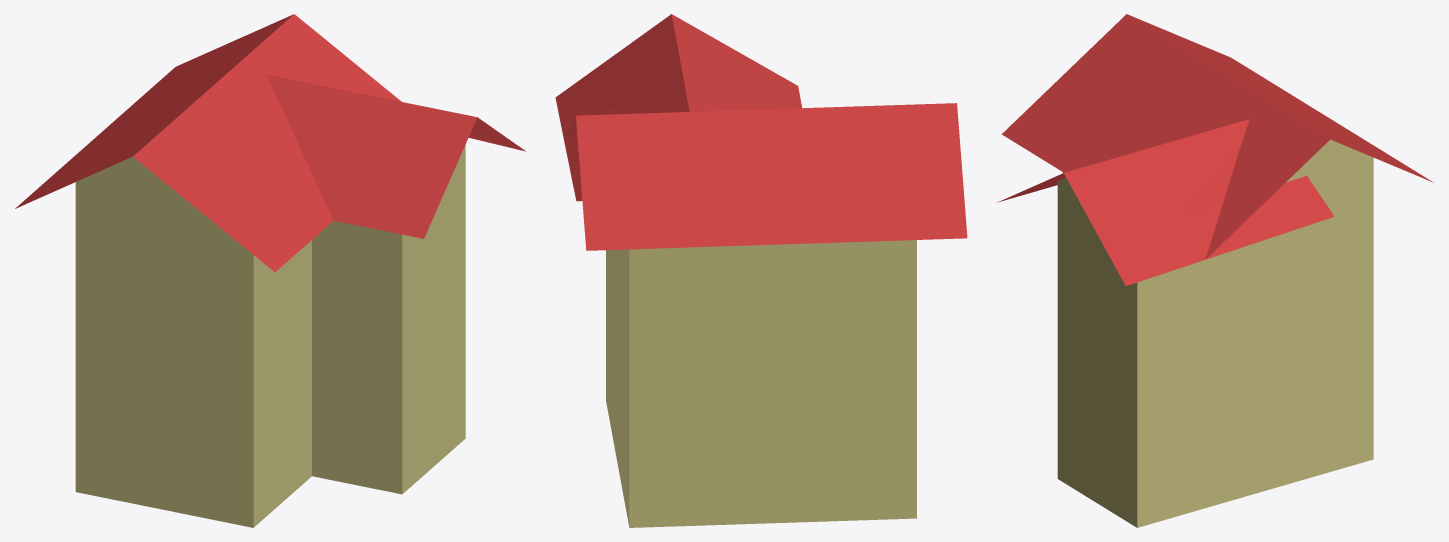
The picture shows the model from 3 angles, left to right: view 1: azimuth 30°, elevation 25°; view 2: azimuth 150°, elevation 25°; view 3: azimuth 270°, elevation 25°; orthographic projection. The views are drawn at different scales.
Bounding box in the file's own units: 8.64 × 7.45 × 6.65.
